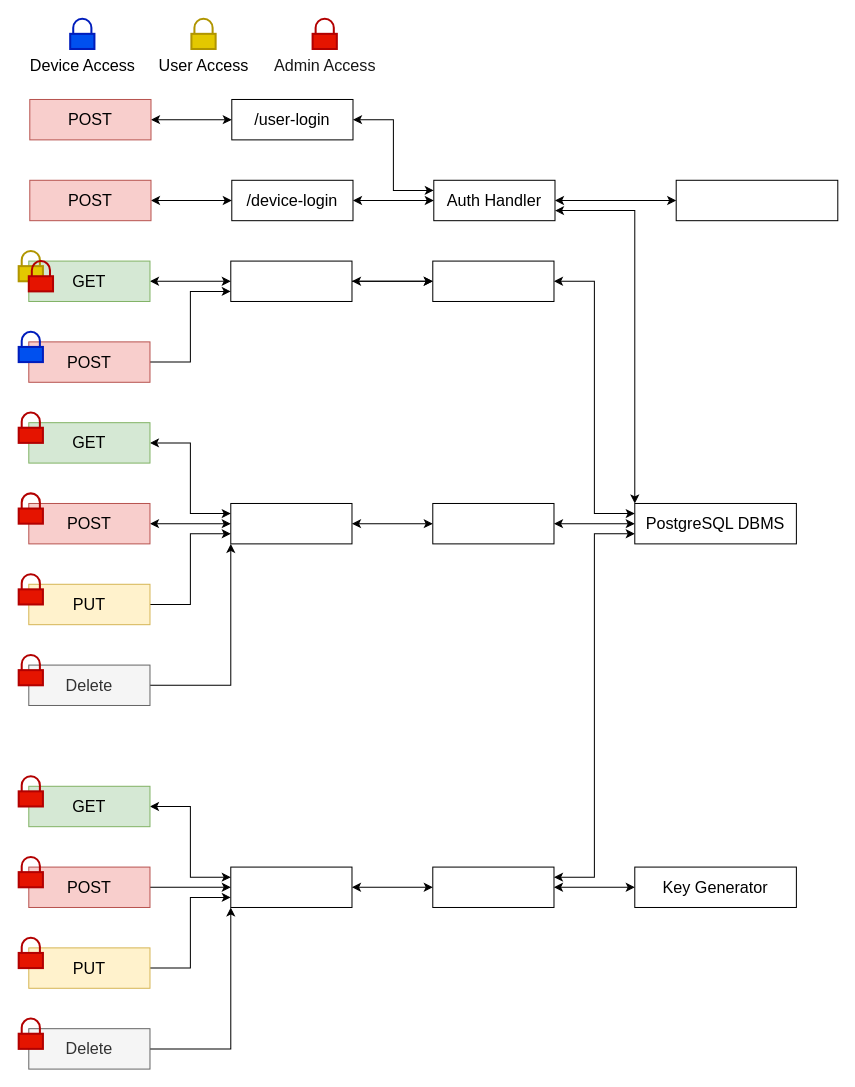
This 855x1087 diagram has some shape labels left out. Each missing label, with the centre of its shape:
/device: the point at 291,886
/log: the point at 291,280
/user: the point at 291,523
Device Handler: the point at 493,886
JWT Token Generator: the point at 756,200
Log Handler: the point at 493,280
User Handler: the point at 493,523
